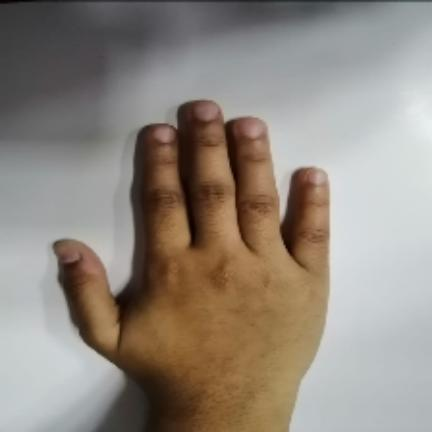Nail: (237, 117, 266, 139), (192, 100, 219, 122), (54, 243, 80, 264), (154, 125, 176, 143), (305, 169, 328, 186)
